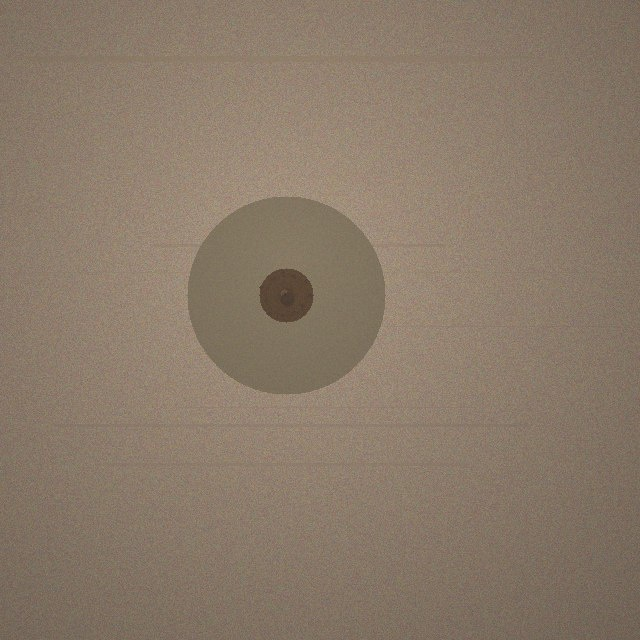cold_weld: (187, 196, 385, 394)
